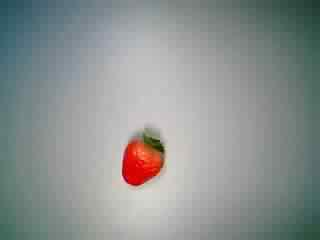strawberry: (112, 125, 170, 191)
